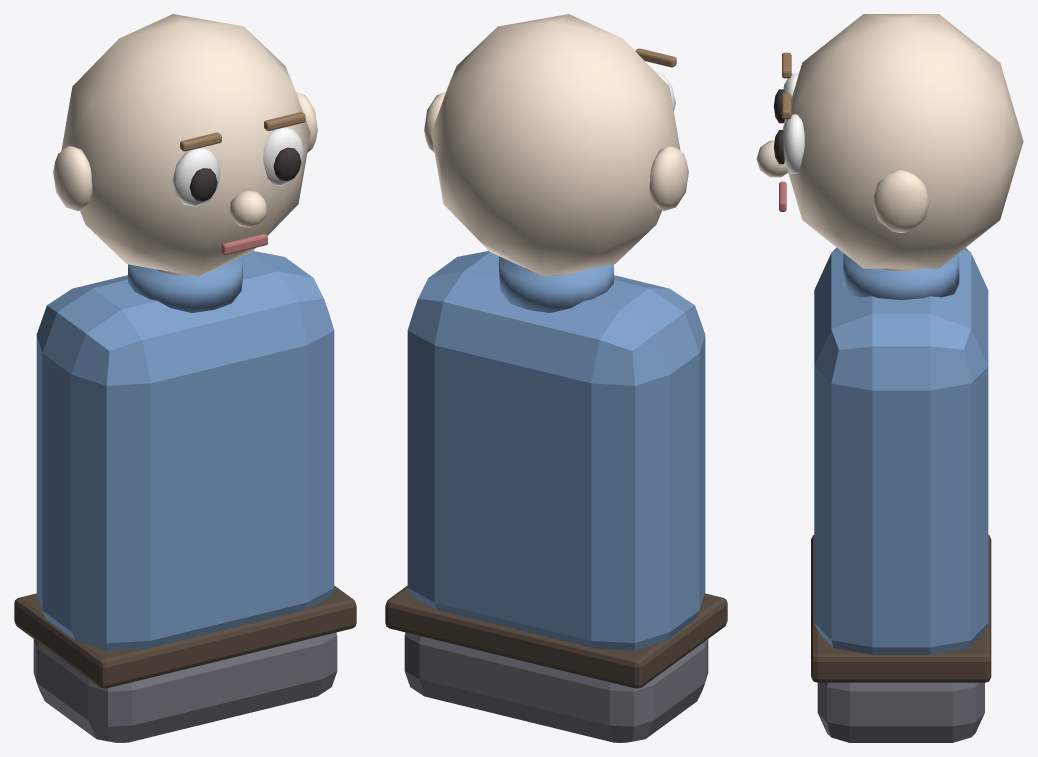
File: torso.glb
3 views of the same model, side by side, from view 1: azimuth 30°, elevation 25°; view 2: azimuth 150°, elevation 25°; view 3: azimuth 270°, elevation 25° (orthographic).
Parts seen in each view (by area): view 1: Torso, Cabeca, Quadril, Cinto, Gola, Orelha, OlhoBranco, OlhoBranco.001, Nariz, Olho, Olho.001, Boca; view 2: Torso, Cabeca, Quadril, Cinto, Gola, Orelha; view 3: Torso, Cabeca, Quadril, Cinto, Gola, Orelha.001, OlhoBranco.001, Nariz.
Part boxes in pixels (box(x1,y1,x2,y2)): Torso: box(36, 251, 334, 650); Cabeca: box(61, 14, 310, 276); Quadril: box(33, 632, 337, 742); Cinto: box(14, 585, 356, 688); Gola: box(128, 256, 242, 312); Orelha: box(53, 145, 92, 210); OlhoBranco: box(172, 148, 220, 206); OlhoBranco.001: box(263, 127, 304, 185); Nariz: box(229, 190, 267, 227); Olho: box(189, 168, 217, 201); Olho.001: box(273, 147, 301, 181); Boca: box(221, 233, 267, 254); Torso: box(407, 251, 705, 650); Cabeca: box(431, 14, 680, 276); Quadril: box(404, 632, 708, 742); Cinto: box(385, 585, 727, 688); Gola: box(499, 256, 613, 312); Orelha: box(649, 145, 688, 210); Torso: box(814, 247, 988, 654); Cabeca: box(782, 14, 1023, 268); Quadril: box(817, 682, 984, 742); Cinto: box(811, 534, 991, 682); Gola: box(843, 253, 959, 299); Orelha.001: box(872, 170, 930, 232); OlhoBranco.001: box(783, 114, 804, 173); Nariz: box(756, 140, 787, 177).
Bounding box in the file's own units: 0.46 × 1.16 × 0.415.
